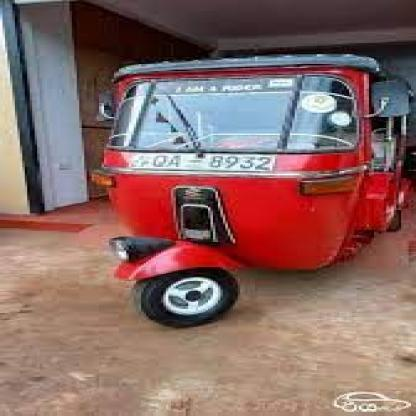number plate: (140, 154, 274, 174)
three wheeler front: (89, 54, 416, 327)
